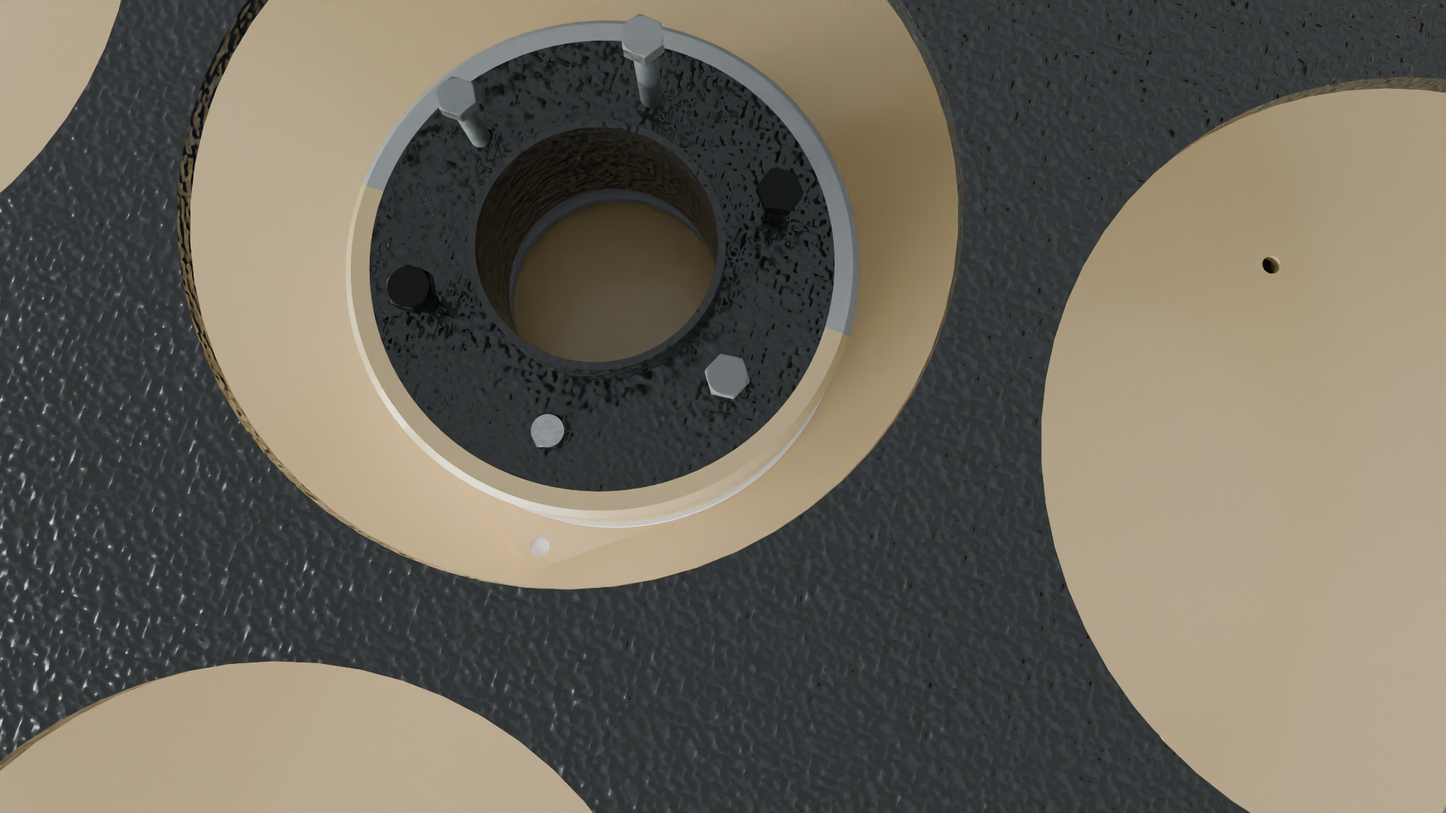bolt: (386, 264, 432, 311), (757, 169, 804, 211), (621, 14, 664, 58), (705, 354, 749, 397), (436, 76, 476, 116), (529, 414, 567, 448)
